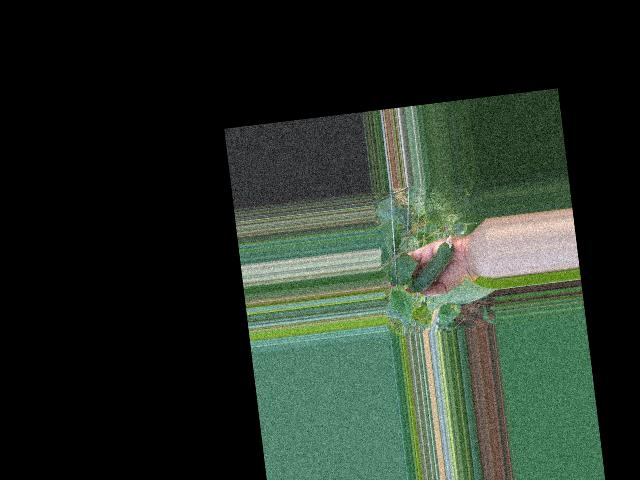cucumber: (406, 233, 459, 292)
